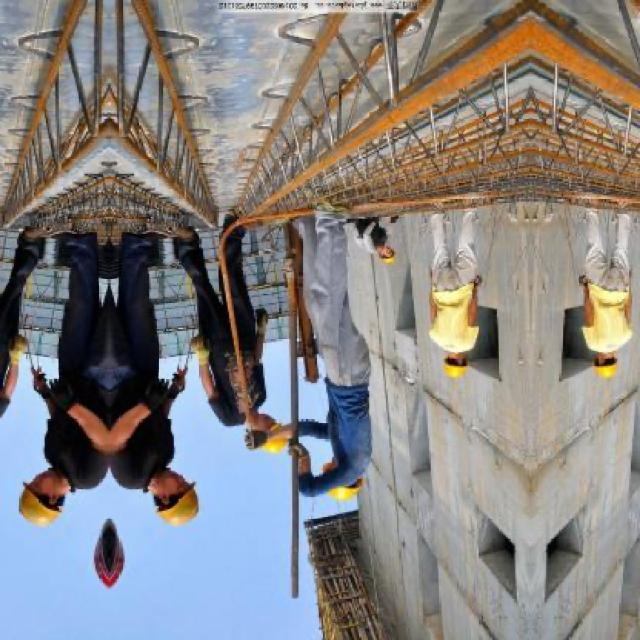con casco: (289, 432, 370, 534), (137, 458, 224, 534), (4, 456, 78, 537), (230, 399, 292, 455), (434, 343, 486, 391), (564, 334, 620, 378)
